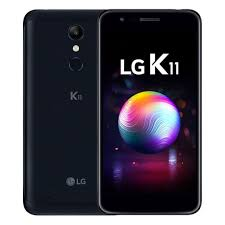lg: (96, 5, 205, 216), (21, 5, 99, 216)
